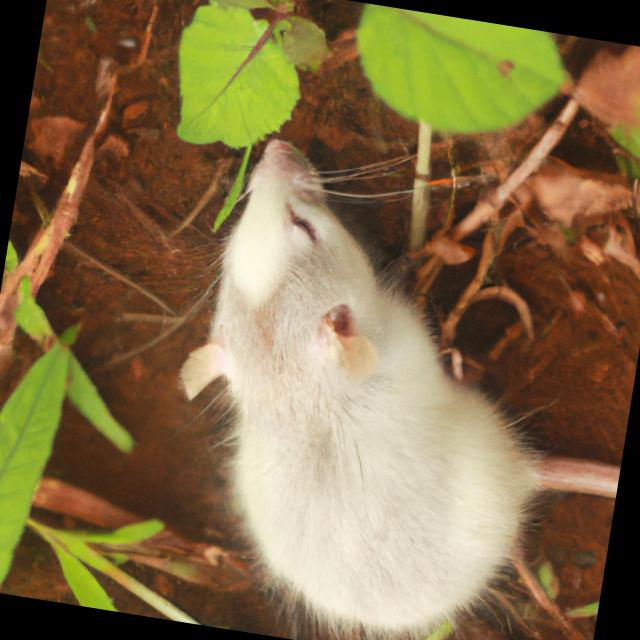rodents: (113, 108, 599, 640)
